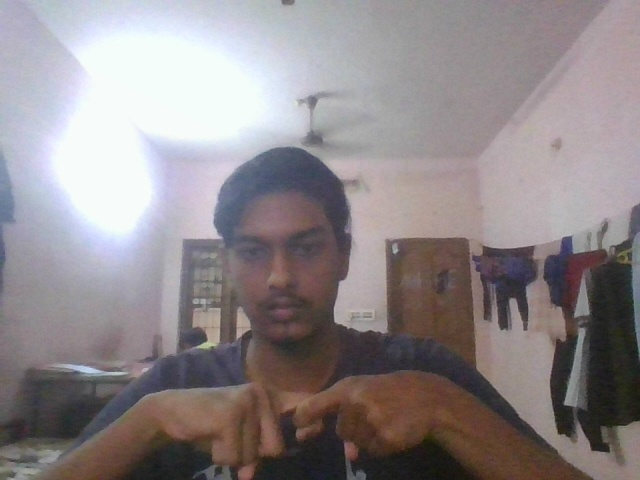friend: (142, 361, 469, 470)
